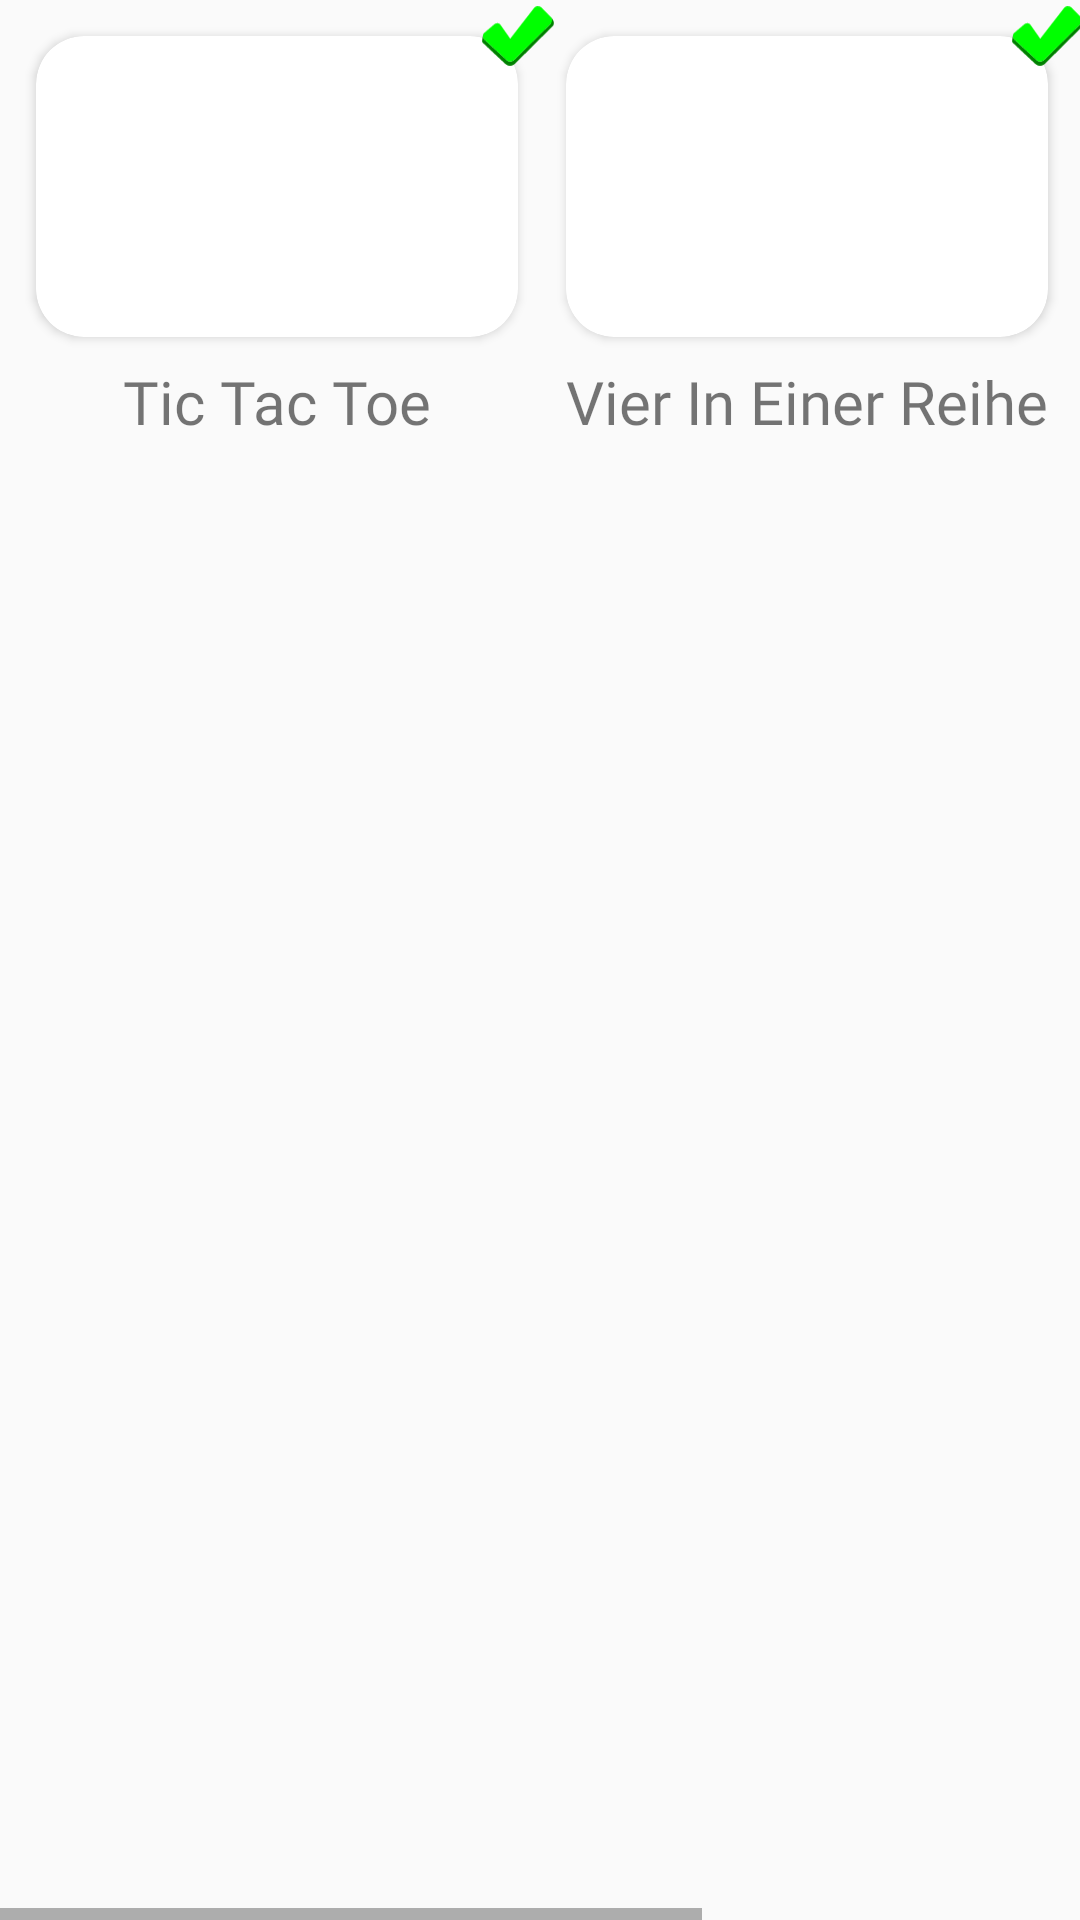

Named icons in this screenshot (1080 × 1920) and their centers, (x=x, y=y):
spooky game chooser check: (x=518, y=36), (x=1046, y=39)
